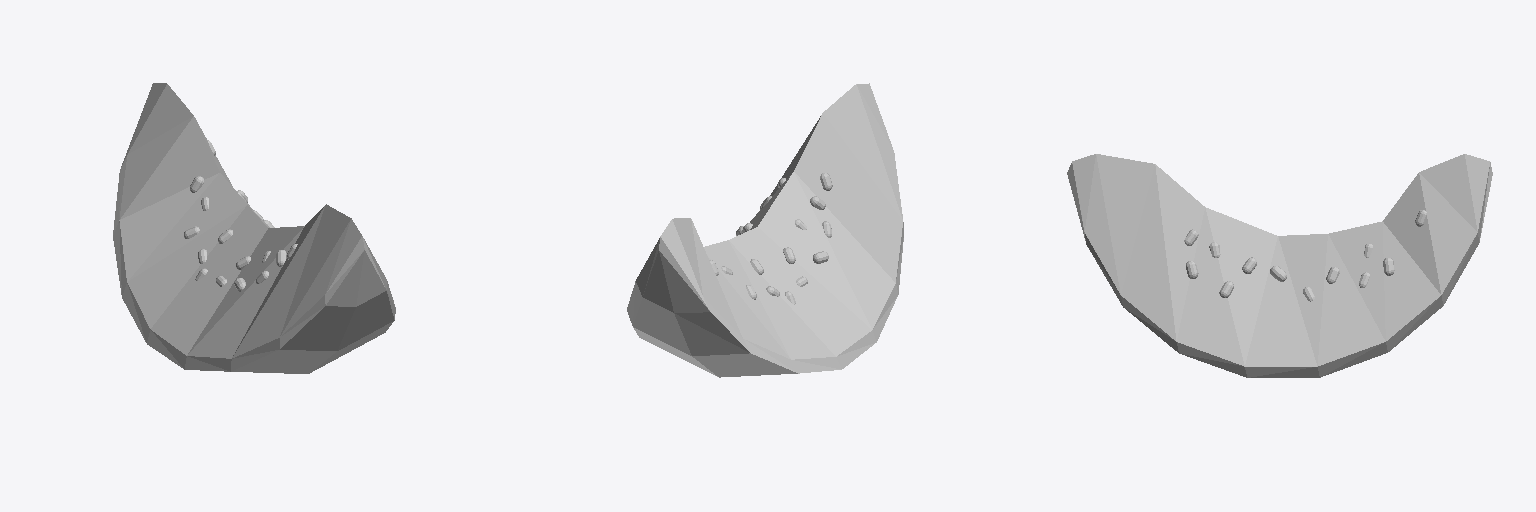
File: watermelon.obj
3 views of the same model, side by side, from view 1: azimuth 30°, elevation 25°; view 2: azimuth 150°, elevation 25°; view 3: azimuth 270°, elevation 25° (orthographic).
Size of the model in its own units: 0.4652 by 0.5047 by 0.9362.